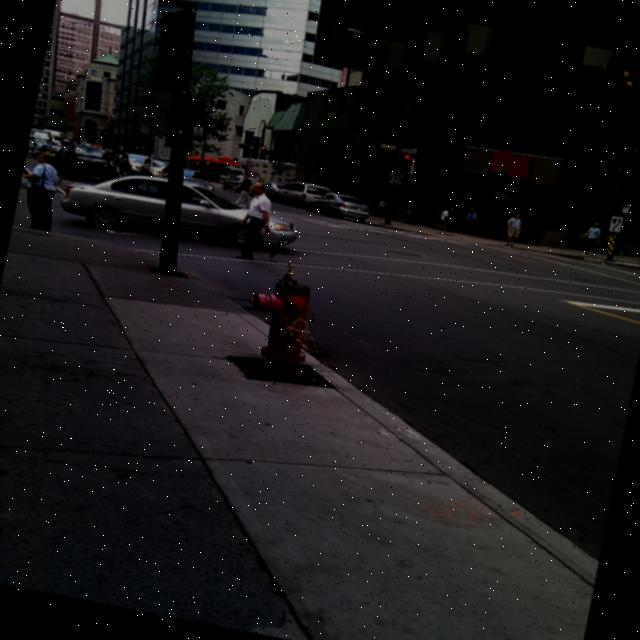fire_hydrant: (236, 258, 322, 378)
